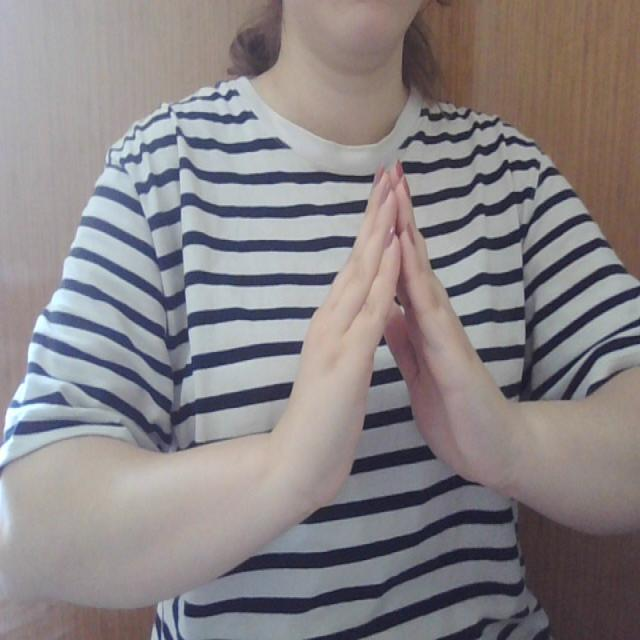Ev: (269, 156, 507, 504)
